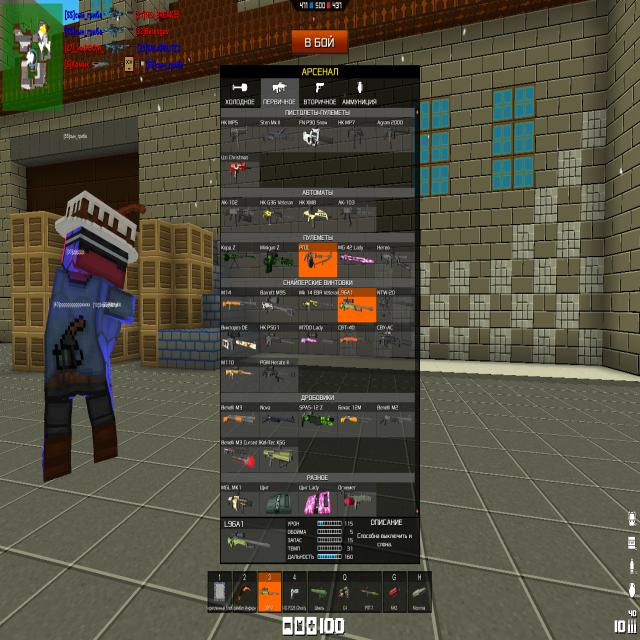player: (39, 193, 141, 475)
